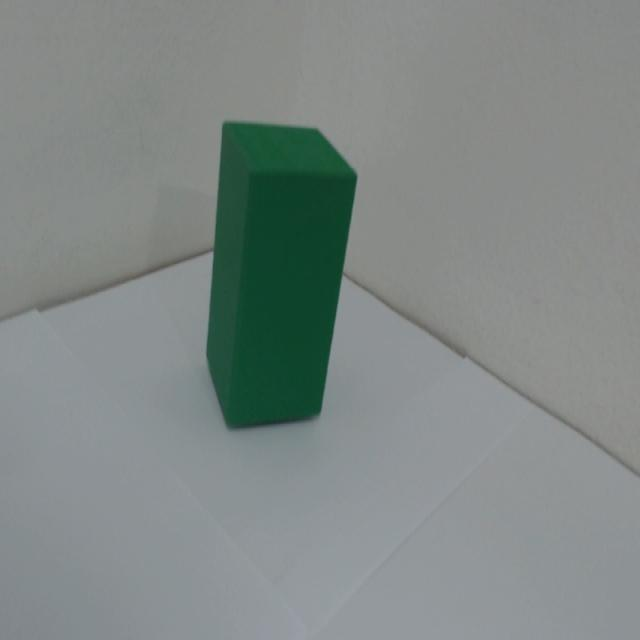cube: (193, 88, 360, 455)
